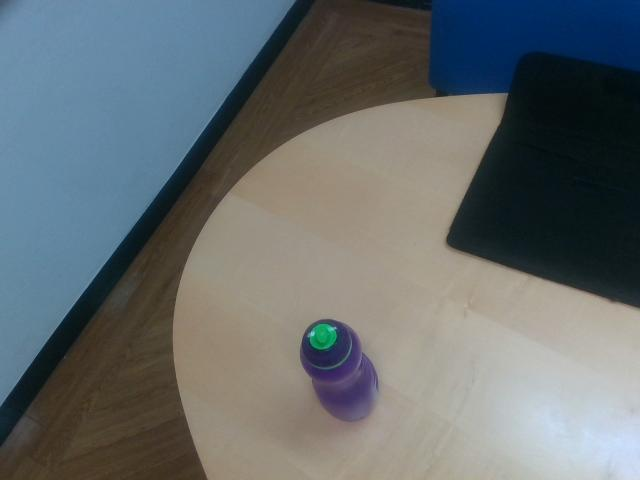bottle: (300, 320, 379, 422)
